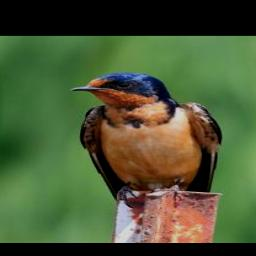Swallow: (70, 71, 224, 210)
